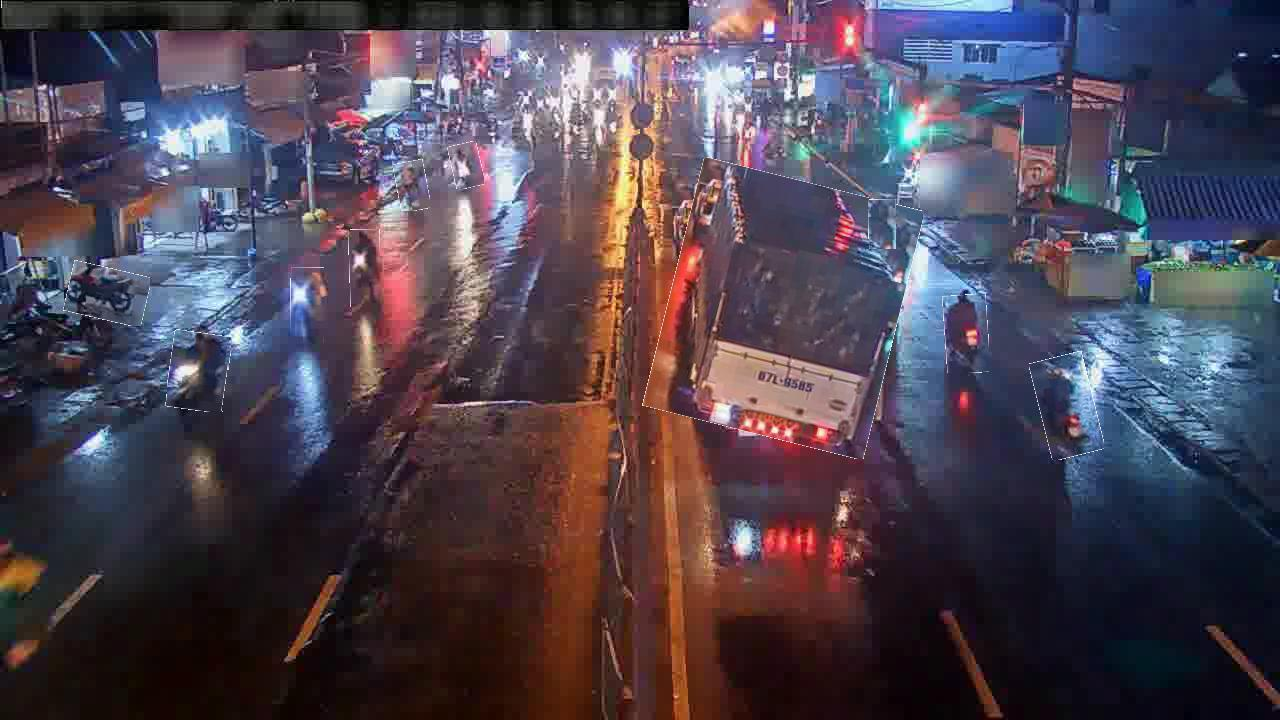container: (656, 169, 911, 449)
motorbike: (1034, 354, 1100, 459), (168, 331, 230, 412), (66, 264, 149, 323), (944, 295, 989, 374), (291, 267, 325, 344), (349, 230, 381, 308), (395, 160, 429, 211), (450, 143, 483, 189), (869, 199, 897, 250)
